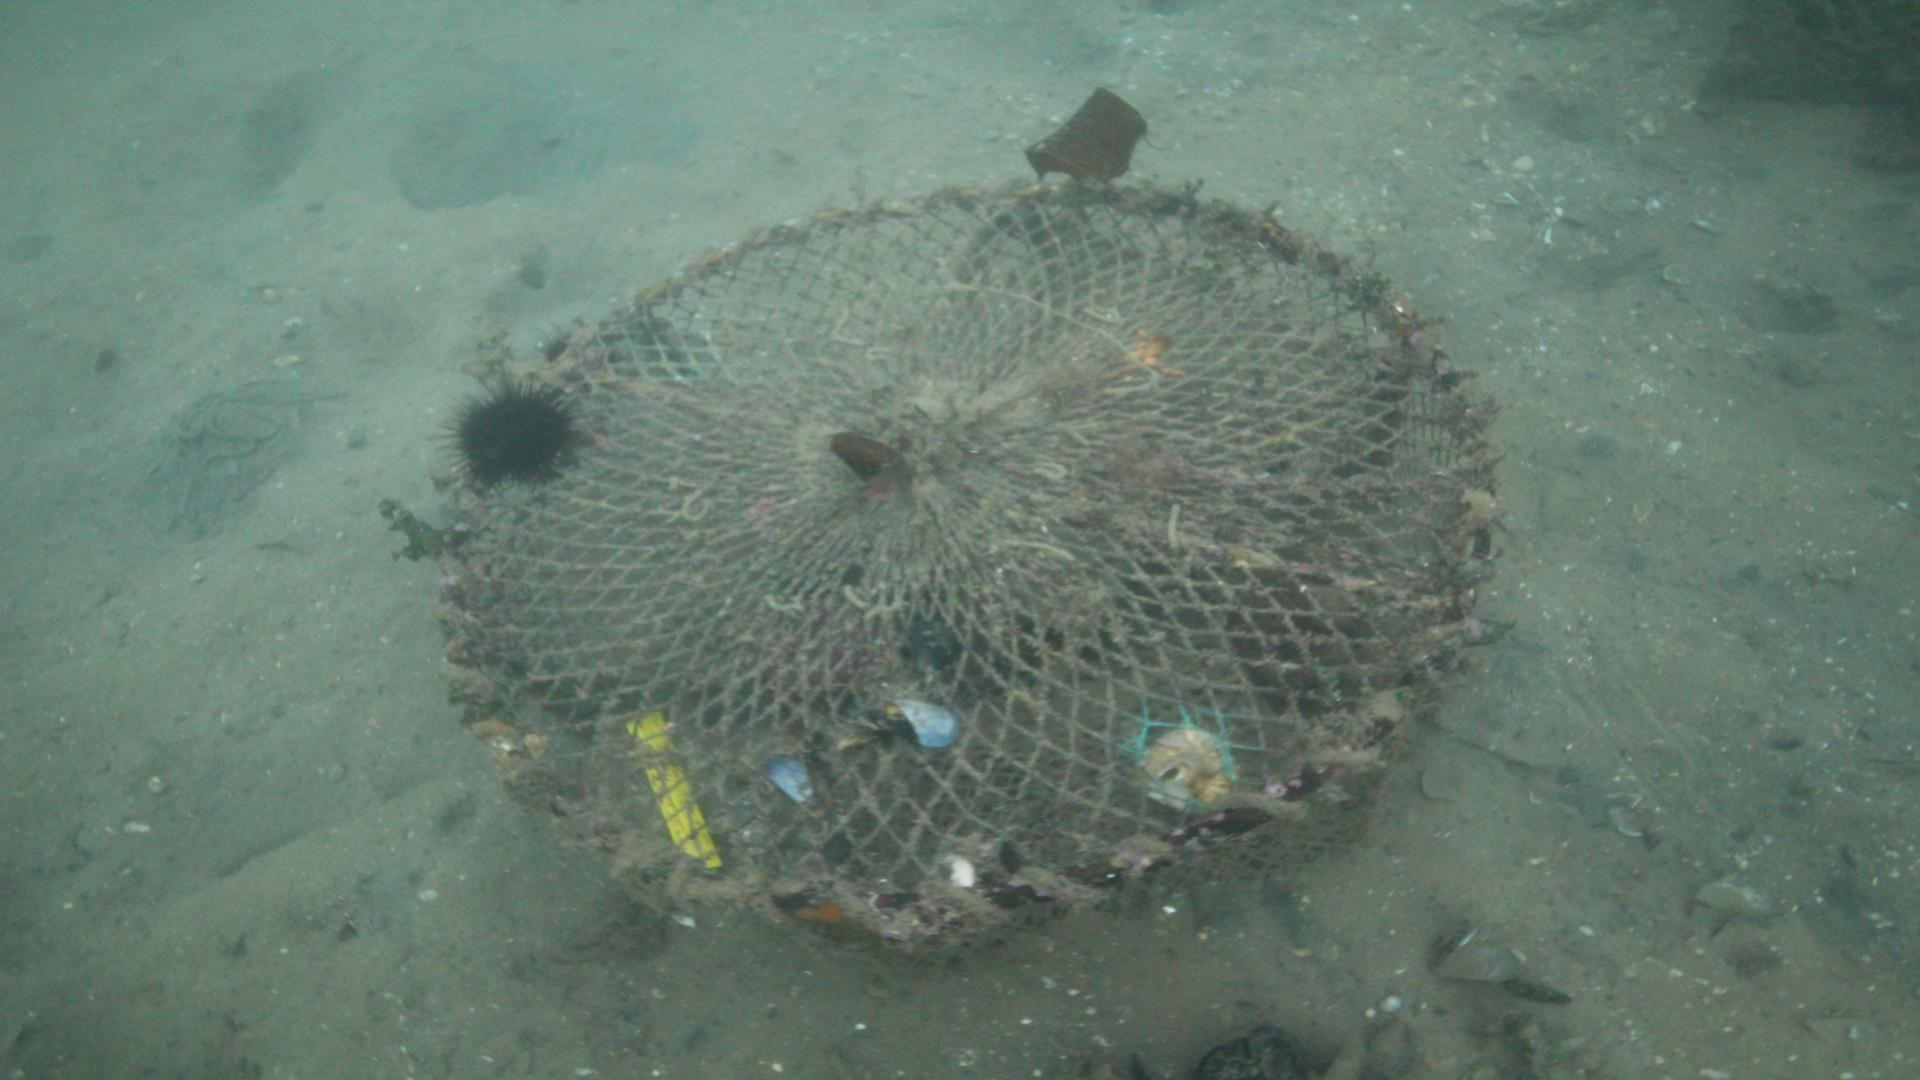circular fish trap: (436, 179, 1501, 960)
